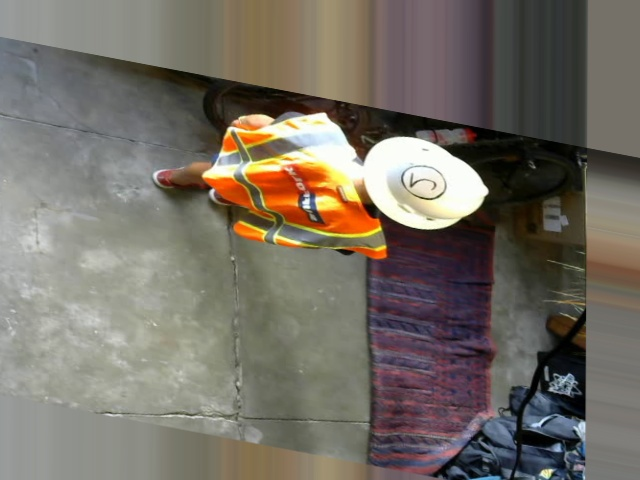two: (401, 159, 448, 203)
